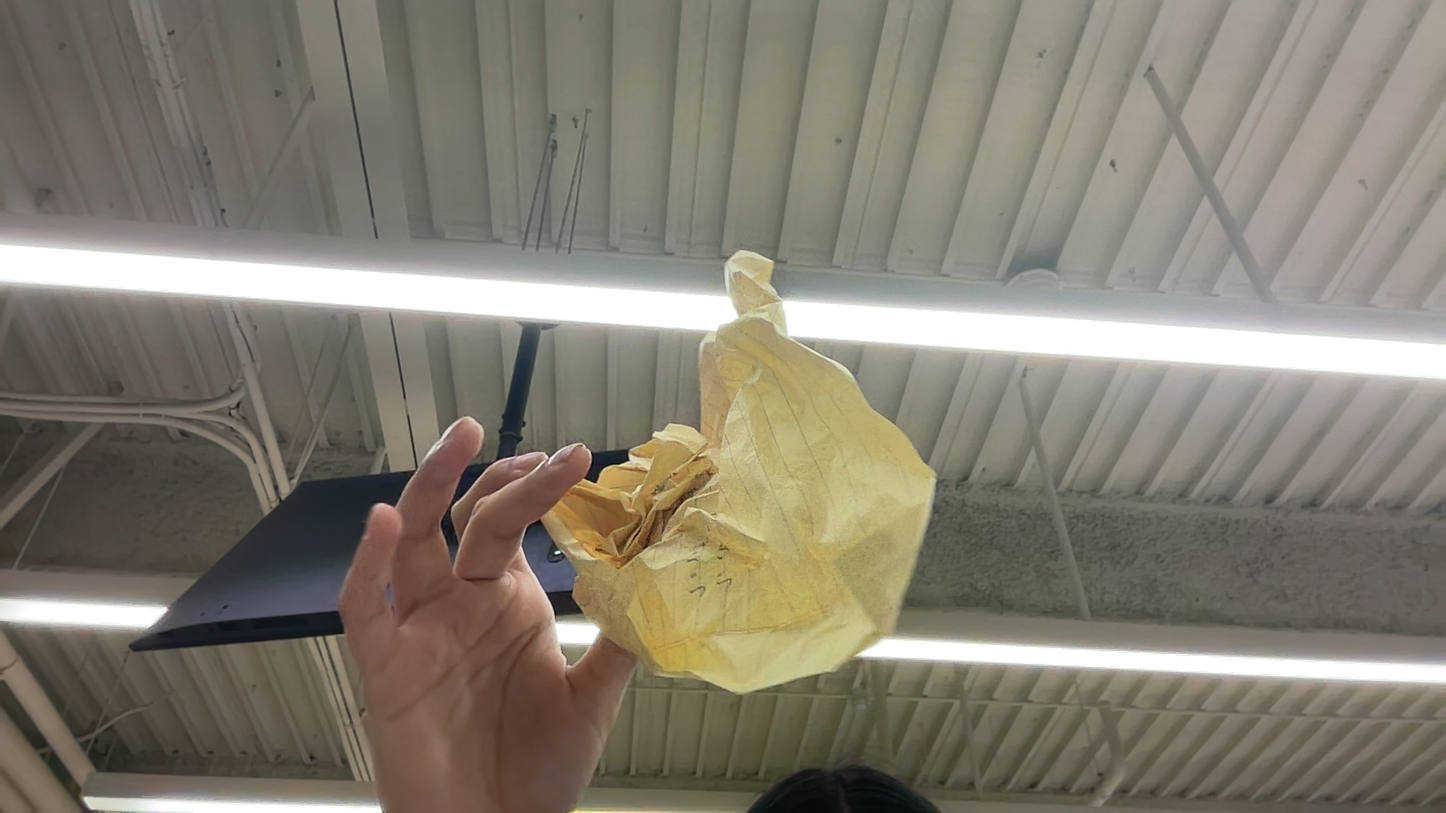Paper: (722, 249, 780, 326)
